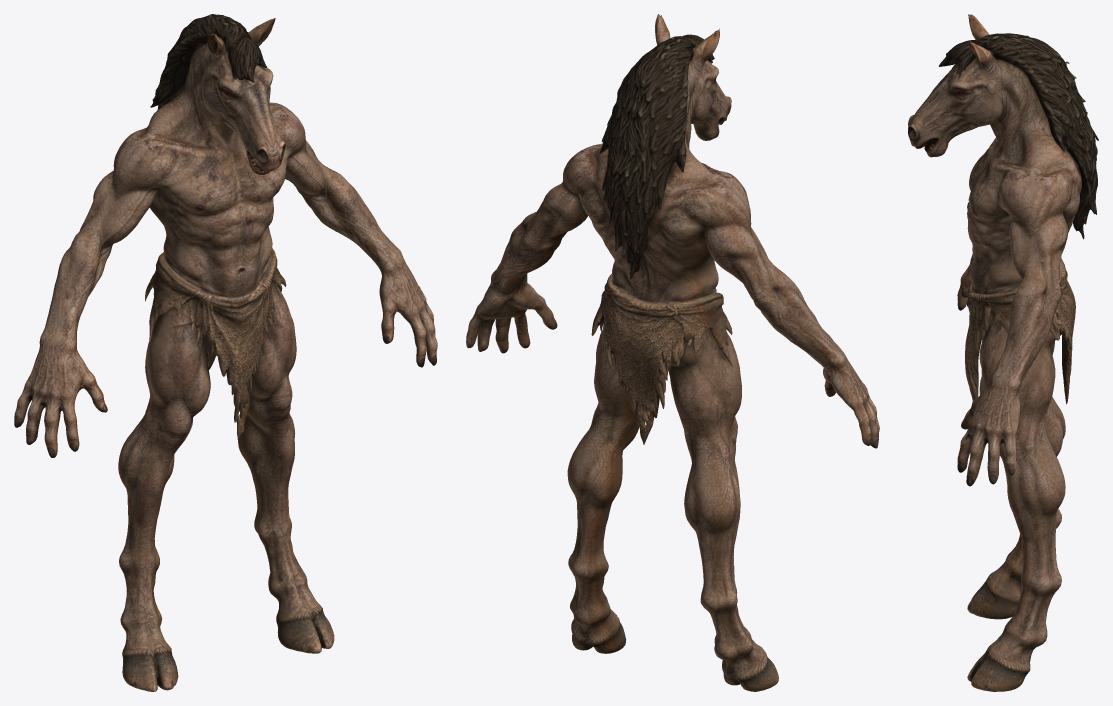
Rendered from tikbalang_for_mixamo.fbx.
3 renders of one model, left to right at view 1: azimuth 30°, elevation 25°; view 2: azimuth 150°, elevation 25°; view 3: azimuth 270°, elevation 25°, orthographic. The views are drawn at different scales.
Parts seen in each view (by area): view 1: tikbalang; view 2: tikbalang; view 3: tikbalang.
Boxes of the visible parts, x1,y1,x2,y2 form: tikbalang: (14, 14, 437, 691); tikbalang: (466, 14, 879, 691); tikbalang: (908, 14, 1098, 691).
Bounding box in the file's own units: 1.54 × 2.3 × 0.6425.
Materials: 1 (1 with a texture image).
